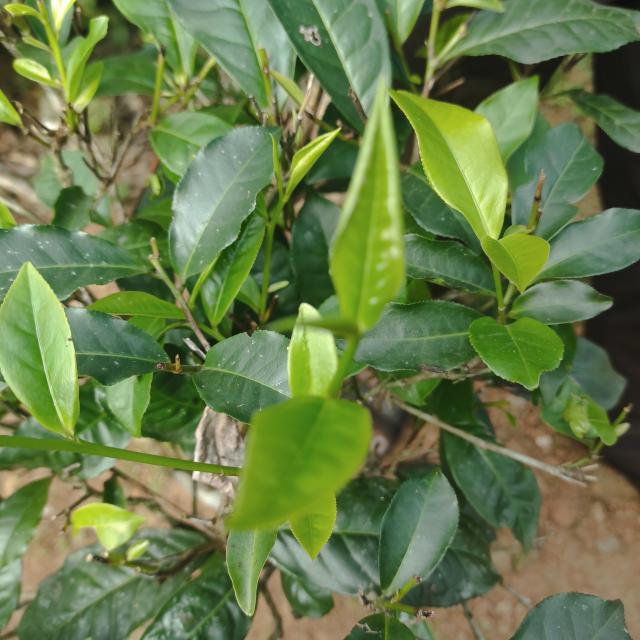unopened_leaf: (248, 307, 378, 354), (174, 248, 229, 321), (262, 127, 292, 220)
